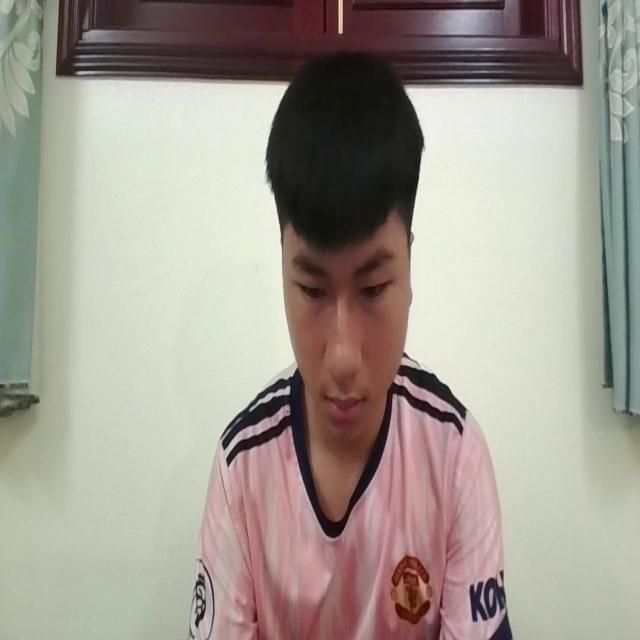student: (187, 43, 516, 640)
